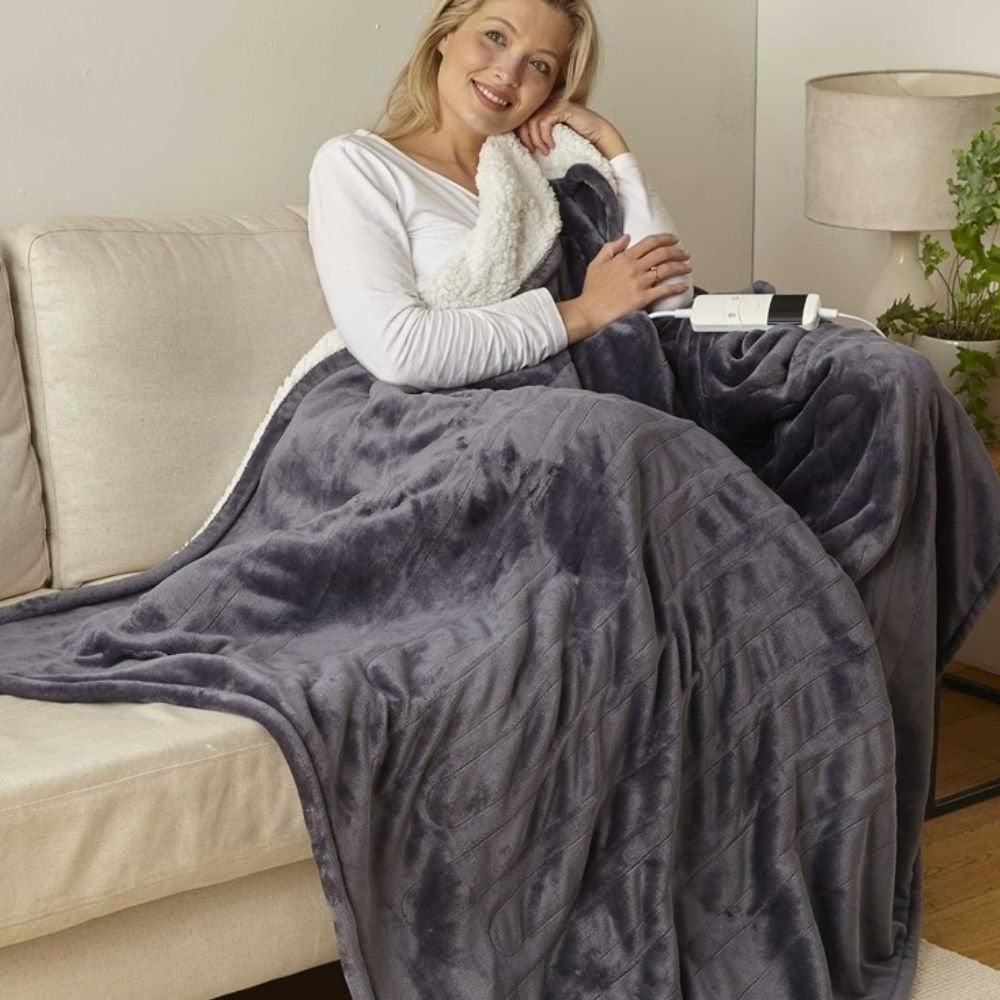blanket: (0, 119, 997, 1000)
long sleeve shirt: (302, 126, 700, 399)
